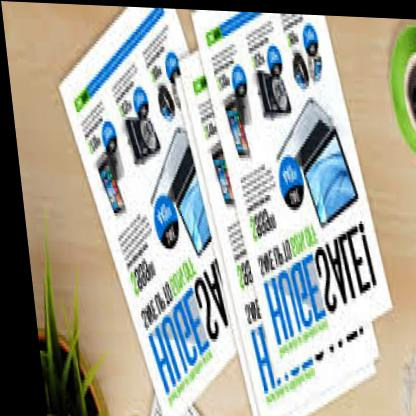Paper: (51, 4, 403, 416)
